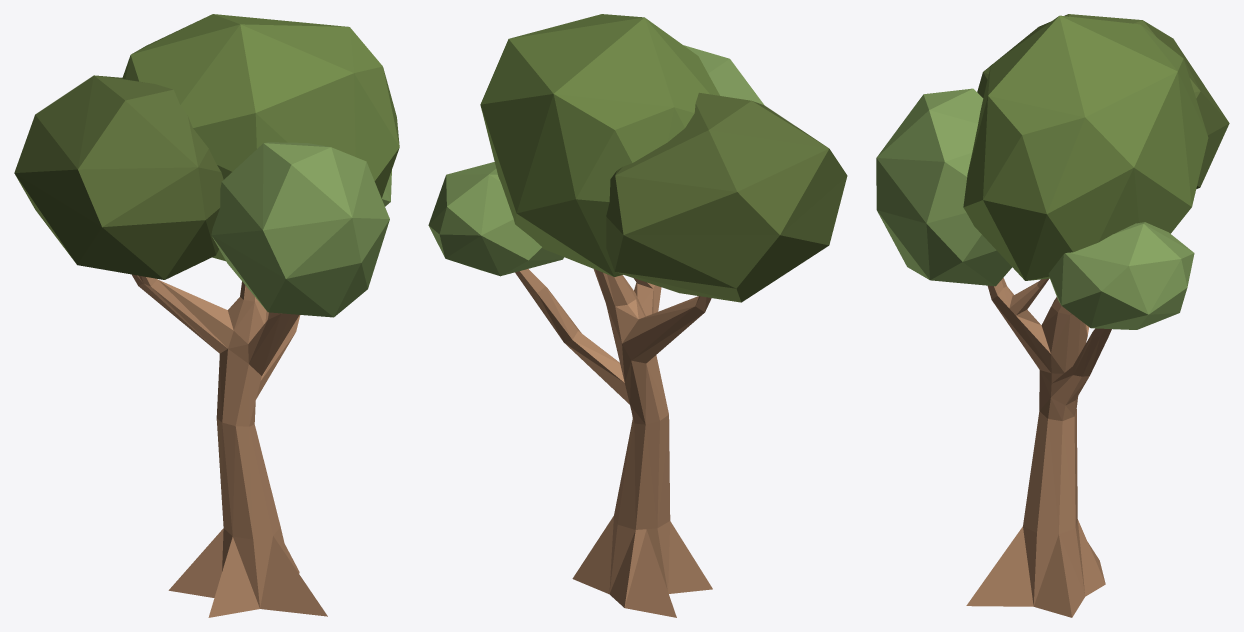
The model's file is Tree3.dae.
The picture shows the model from 3 angles, left to right: view 1: azimuth 30°, elevation 25°; view 2: azimuth 150°, elevation 25°; view 3: azimuth 270°, elevation 25°; orthographic projection.
Parts seen in each view (by area): view 1: Cylinder_010; view 2: Cylinder_010; view 3: Cylinder_010.
Boxes of the visible parts, x1,y1,x2,y2 form: Cylinder_010: (14, 14, 399, 617); Cylinder_010: (428, 14, 847, 617); Cylinder_010: (876, 14, 1229, 617).
Size of the model in its own units: 1.03 by 0.8869 by 1.58.
